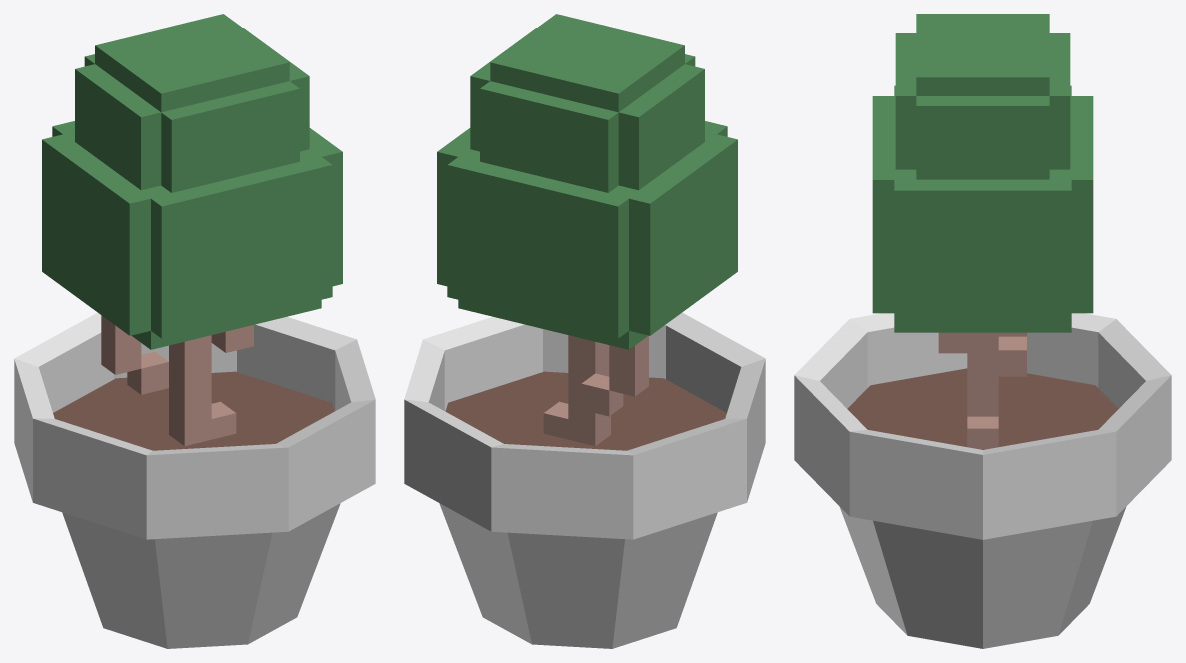
Rendered from plant.fbx.
The picture shows the model from 3 angles, left to right: view 1: azimuth 30°, elevation 25°; view 2: azimuth 150°, elevation 25°; view 3: azimuth 270°, elevation 25°; orthographic projection.
Visible parts, largest first — view 1: plant; view 2: plant; view 3: plant.
Boxes of the visible parts, box(x1,y1,x2,y2) form: plant: box(14, 14, 375, 648); plant: box(404, 14, 765, 648); plant: box(794, 14, 1171, 648).
Bounding box in the file's own units: 231 × 377 × 231.
